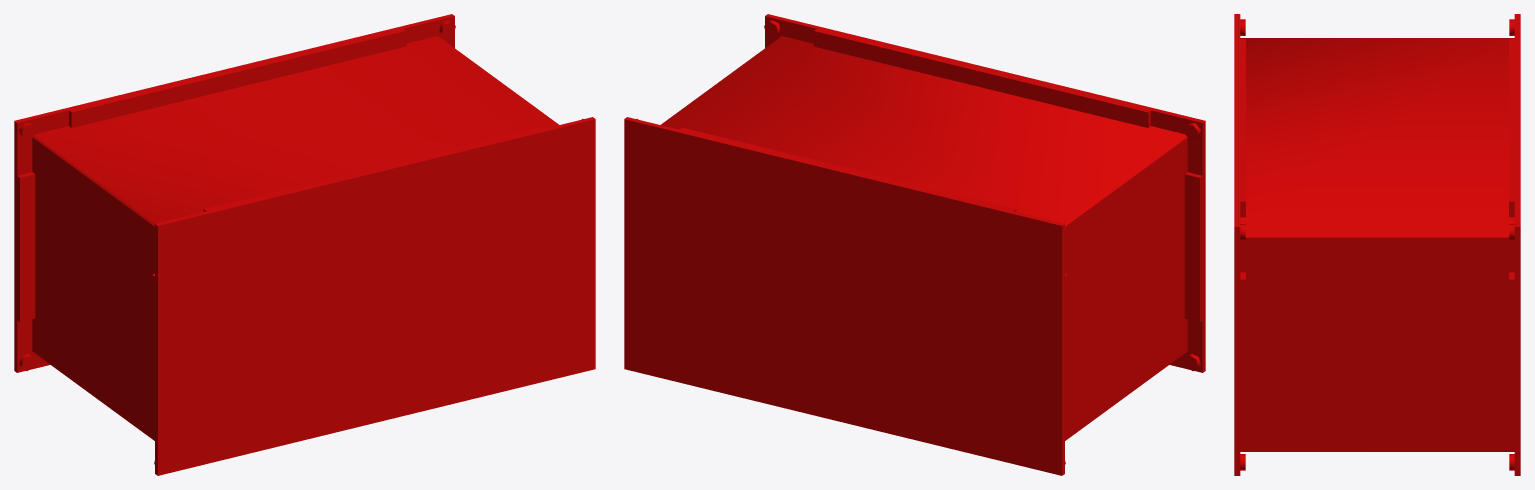
The picture shows the model from 3 angles, left to right: view 1: azimuth 30°, elevation 25°; view 2: azimuth 150°, elevation 25°; view 3: azimuth 270°, elevation 25°; orthographic projection.
Parts seen in each view (by area): view 1: Mesh; view 2: Mesh; view 3: Mesh.
Boxes of the visible parts, x1=… form: Mesh: x1=14, y1=14, x2=595, y2=475; Mesh: x1=624, y1=14, x2=1205, y2=475; Mesh: x1=1234, y1=14, x2=1520, y2=475.
Bounding box in the file's own units: 0.44 × 0.24 × 0.25.
